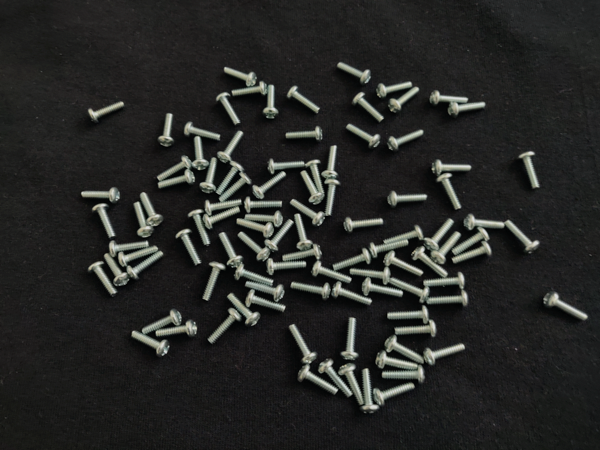shortscrew: (319, 359, 355, 399), (544, 291, 590, 322), (298, 365, 340, 396), (505, 219, 541, 255), (208, 308, 243, 345), (289, 324, 319, 367), (226, 293, 262, 327), (127, 251, 164, 282), (452, 227, 491, 256), (131, 330, 171, 358), (388, 277, 431, 303), (339, 363, 365, 406), (142, 309, 183, 336), (88, 262, 118, 298), (385, 337, 424, 364), (374, 383, 416, 408), (216, 161, 246, 196), (331, 282, 371, 308), (352, 92, 385, 123), (218, 173, 252, 203), (253, 171, 288, 200), (265, 219, 294, 253), (287, 86, 322, 114), (291, 199, 326, 227), (384, 225, 424, 249), (424, 342, 467, 364), (452, 242, 493, 265), (332, 248, 371, 272), (346, 124, 382, 150), (177, 230, 203, 266), (437, 173, 462, 210), (219, 232, 244, 269), (157, 156, 194, 181), (246, 290, 286, 313), (235, 264, 275, 287), (203, 262, 226, 302), (386, 129, 424, 153), (118, 246, 159, 268), (388, 86, 421, 113), (218, 131, 245, 164), (104, 253, 130, 287), (368, 238, 410, 259), (360, 369, 379, 415), (245, 281, 286, 302), (203, 207, 240, 230), (139, 193, 164, 227), (361, 278, 403, 298), (92, 203, 116, 238), (520, 152, 542, 190), (188, 210, 211, 246), (340, 318, 359, 361), (300, 171, 324, 205), (290, 281, 330, 301), (87, 102, 125, 123), (237, 218, 275, 239), (156, 320, 198, 339), (423, 272, 467, 290), (337, 62, 371, 85), (158, 170, 197, 190), (387, 190, 428, 209), (133, 202, 154, 239), (387, 306, 430, 324), (395, 320, 438, 338), (376, 351, 419, 369), (216, 93, 240, 125), (382, 366, 426, 383), (224, 65, 258, 87), (294, 214, 314, 251), (432, 159, 472, 177), (427, 291, 469, 308), (245, 211, 284, 229), (199, 158, 219, 193), (464, 214, 505, 231), (447, 101, 488, 118), (344, 217, 385, 234), (350, 267, 391, 284), (81, 186, 121, 203), (110, 241, 150, 258), (184, 122, 221, 140), (376, 81, 412, 99), (324, 179, 341, 217), (305, 160, 324, 194), (429, 90, 469, 106), (205, 199, 242, 216), (321, 146, 339, 180), (268, 159, 306, 175), (158, 113, 175, 148), (231, 82, 268, 98), (245, 197, 284, 212), (192, 137, 209, 171), (264, 85, 279, 119), (286, 127, 324, 140)
